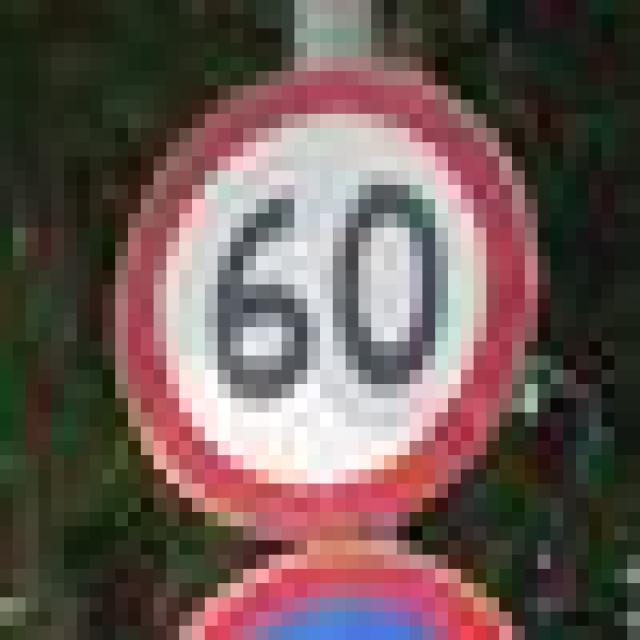speed_limit_40: (90, 43, 524, 526)
